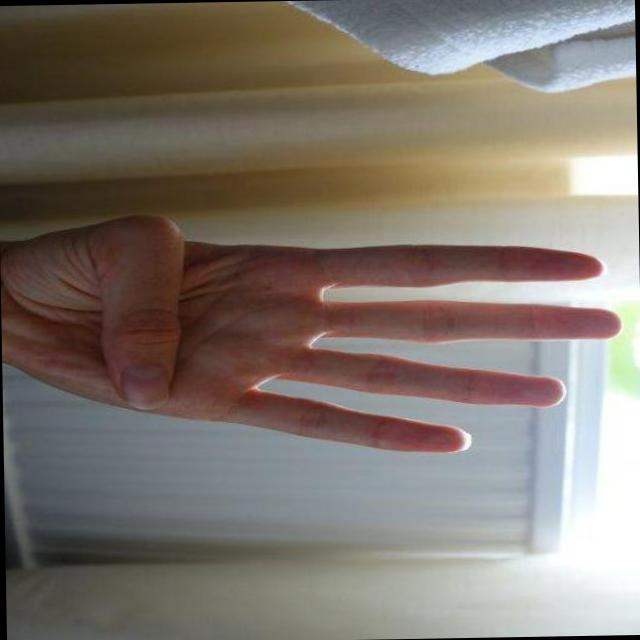Nail: (117, 364, 168, 409)
